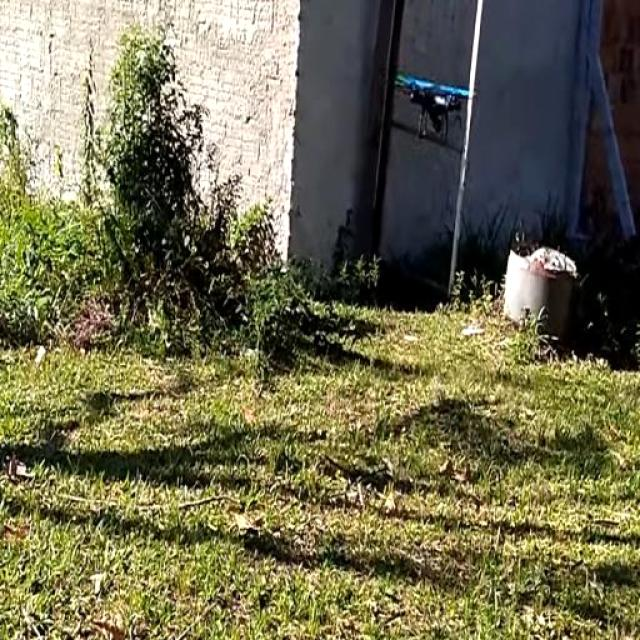bird: (382, 45, 488, 141)
